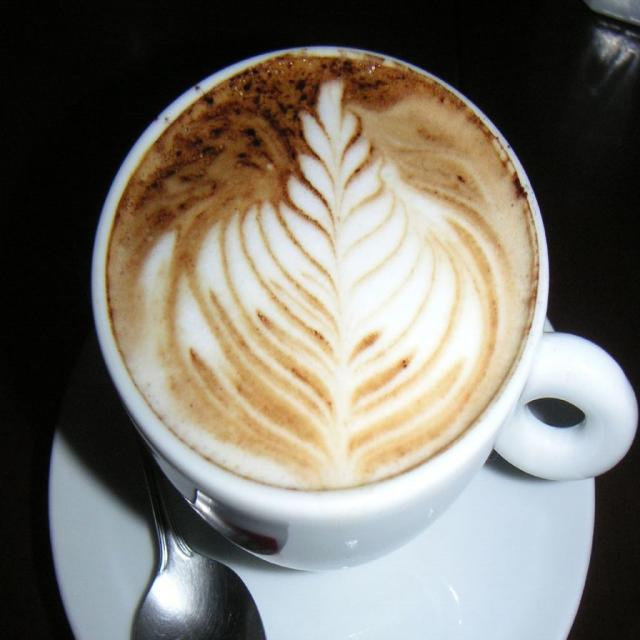latte: (83, 43, 552, 505)
